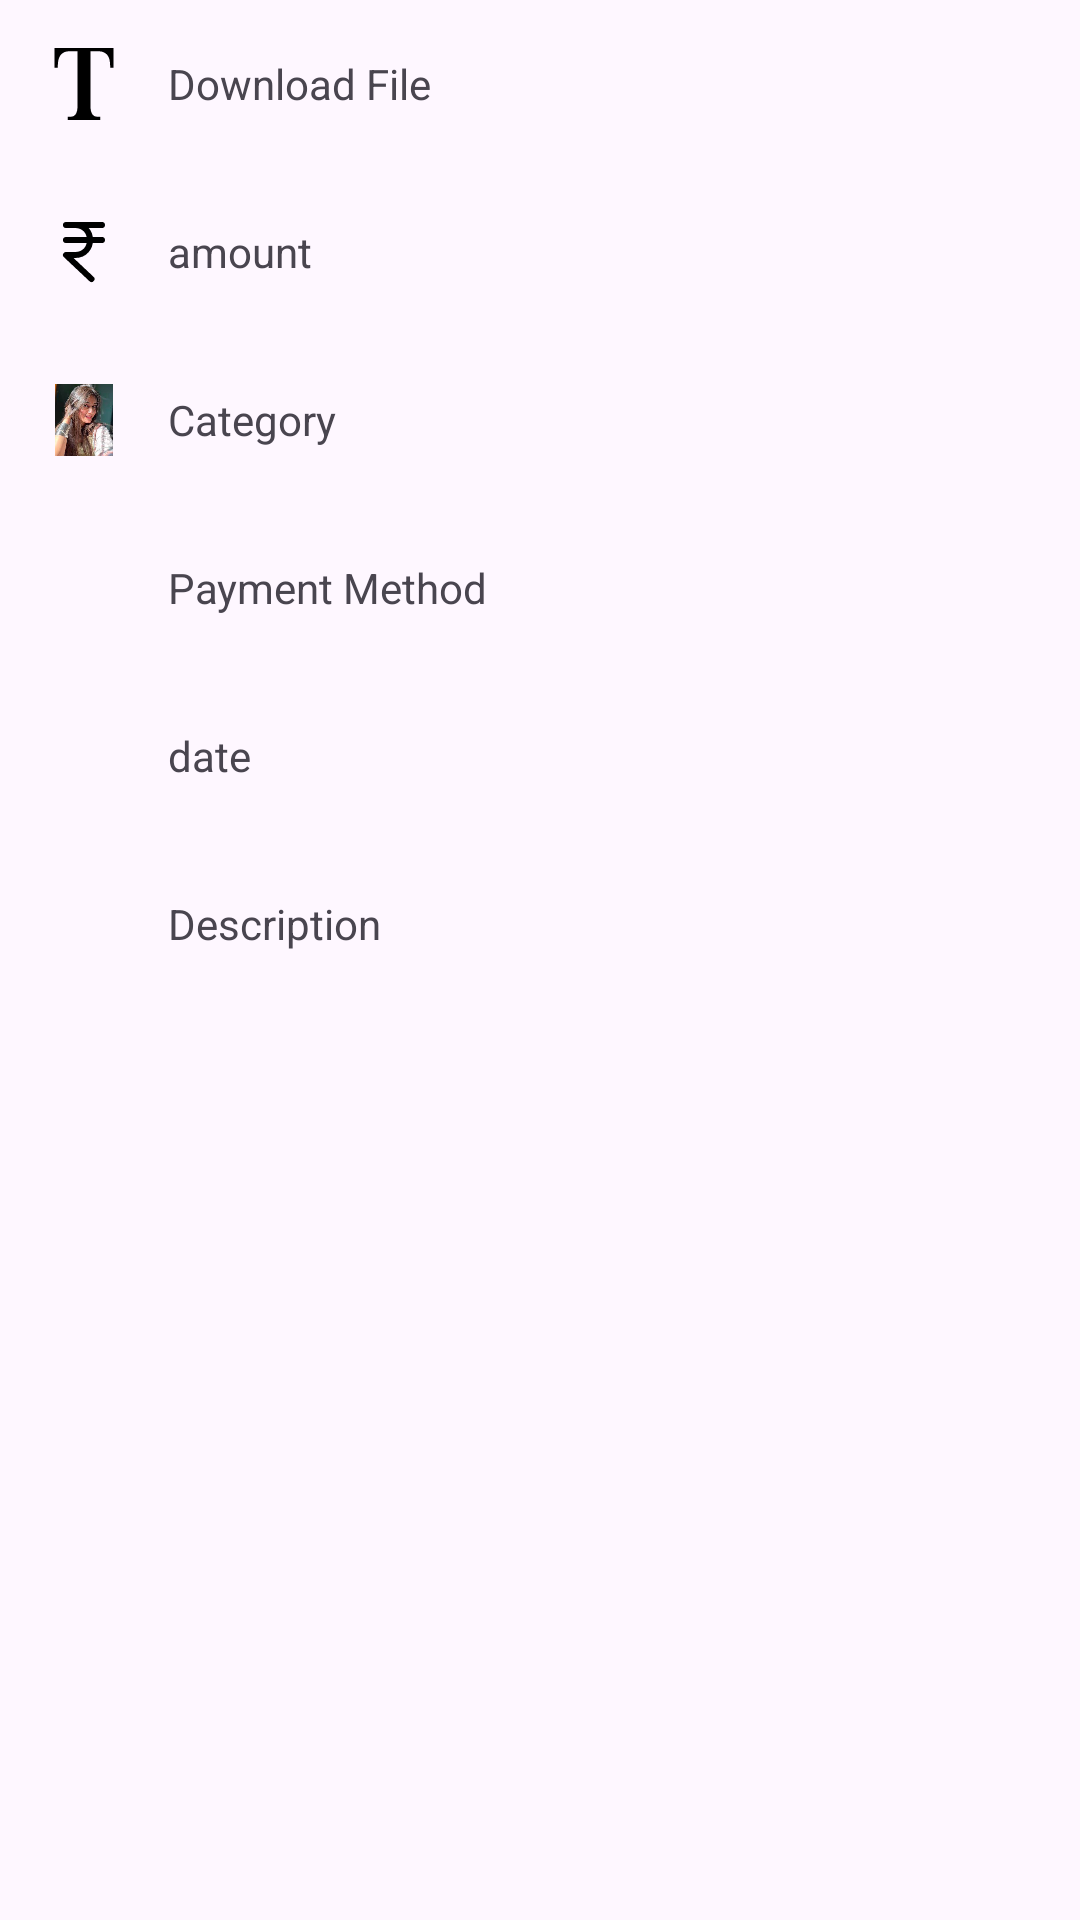

Locate icon controls on the screen. Image size 1080 × 1920, boxes as (x1, y1, x2, y2).
currency: (63, 222, 105, 283)
title: (54, 48, 114, 120)
